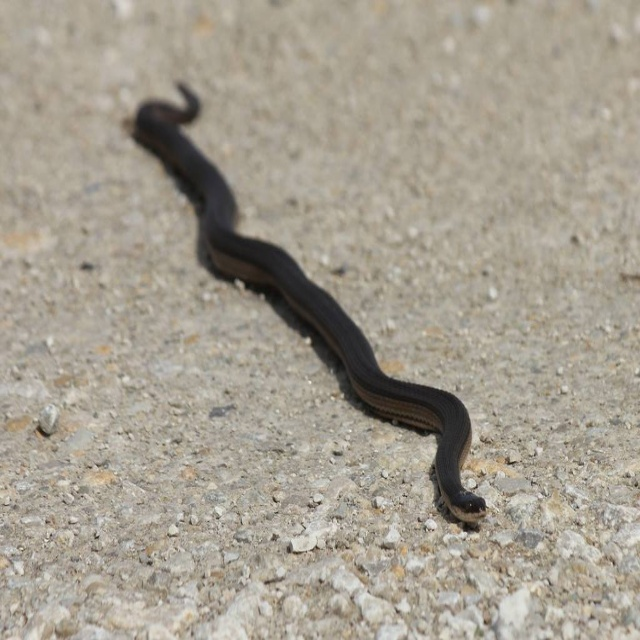Snake: (129, 79, 487, 520)
